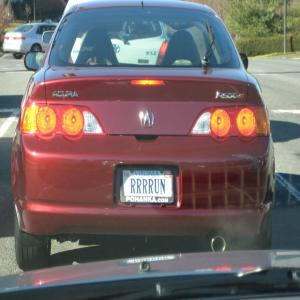Vehicle-registration-plate: (115, 167, 181, 212)
